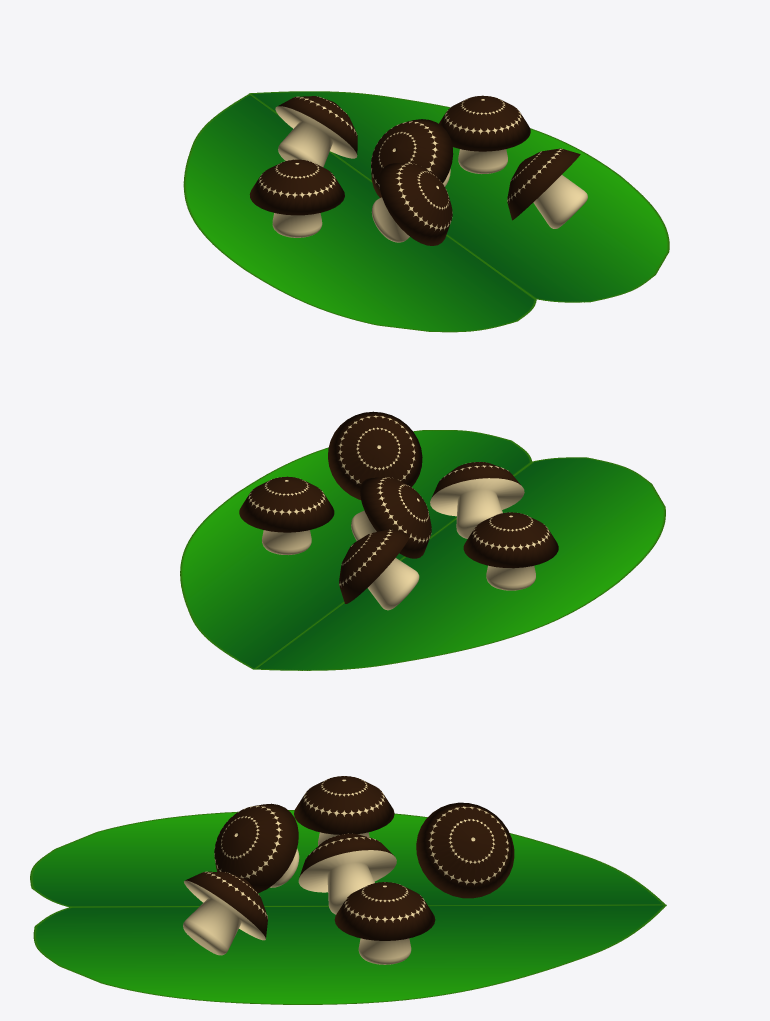
File: steamed mushrooms.fbx
3 views of the same model, one above another, from view 1: azimuth 30°, elevation 25°; view 2: azimuth 150°, elevation 25°; view 3: azimuth 270°, elevation 25° (orthographic). The views are drawn at different scales.
Parts seen in each view (by area): view 1: Plane; view 2: Plane; view 3: Plane.
Part boxes in pixels (x1,y1,x2,y2): Plane: (183,91,669,332); Plane: (180,411,665,670); Plane: (30,776,666,1004).
Bounding box in the file's own units: 200 × 36.12 × 311.
